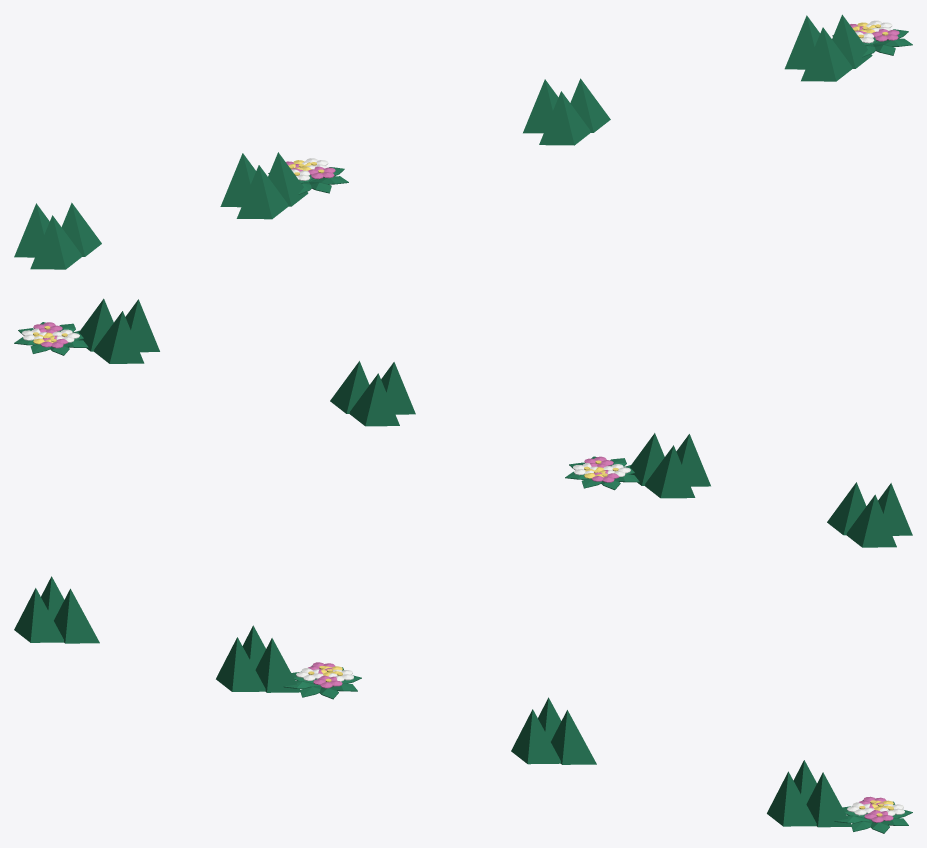
3 renders of one model, top to bottom at view 1: azimuth 30°, elevation 25°; view 2: azimuth 150°, elevation 25°; view 3: azimuth 330°, elevation 25°, orthographic. The views are drawn at different scales.
Parts seen in each view (by area): view 1: 岸边独立植物与散石.001; view 2: 岸边独立植物与散石.001; view 3: 岸边独立植物与散石.001.
Boxes of the visible parts, x1,y1,x2,y2 form: 岸边独立植物与散石.001: [14, 14, 912, 269]; 岸边独立植物与散石.001: [14, 298, 912, 547]; 岸边独立植物与散石.001: [14, 576, 912, 833].
Bounding box in the file's own units: 2.43 × 0.1265 × 0.2301.
